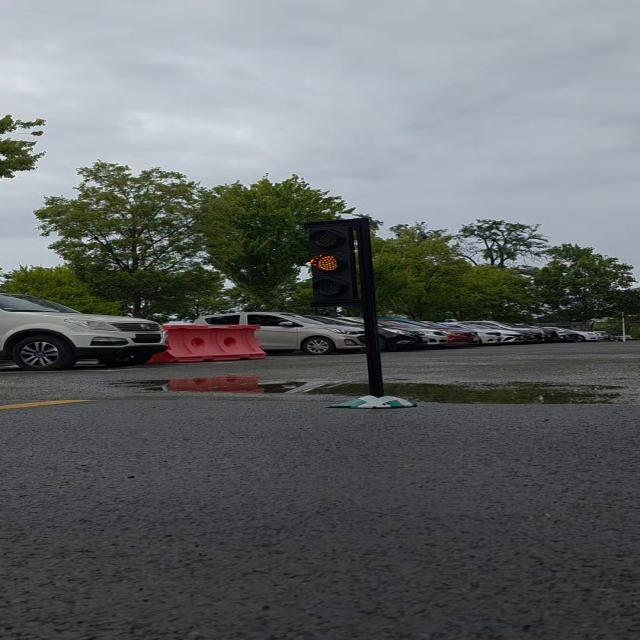yellow: (304, 214, 379, 312)
